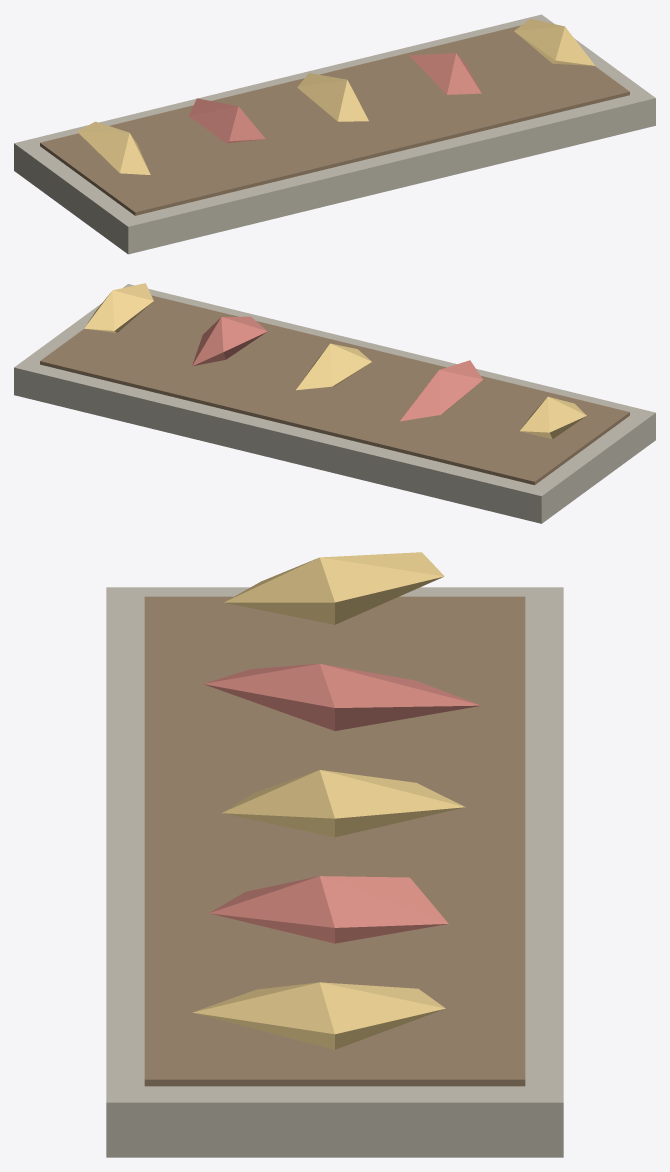
3 views of the same model, one above another, from view 1: azimuth 30°, elevation 25°; view 2: azimuth 150°, elevation 25°; view 3: azimuth 270°, elevation 25° (orthographic). The views are drawn at different scales.
Size of the model in its own units: 8 by 1 by 3.
